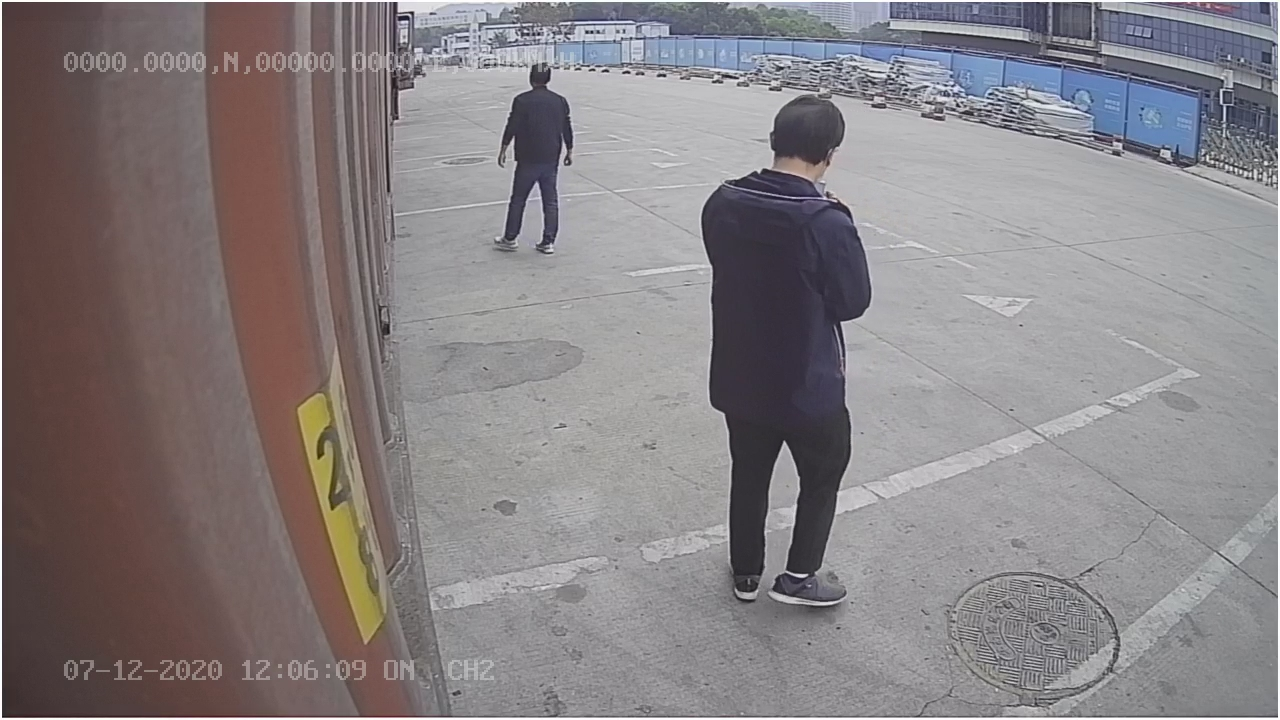person: (693, 92, 883, 608)
